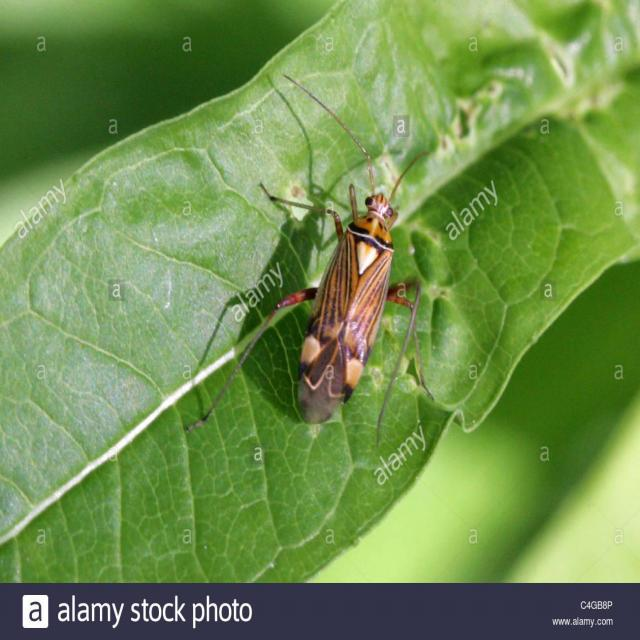Miridae-Adult-: (238, 74, 448, 442)
